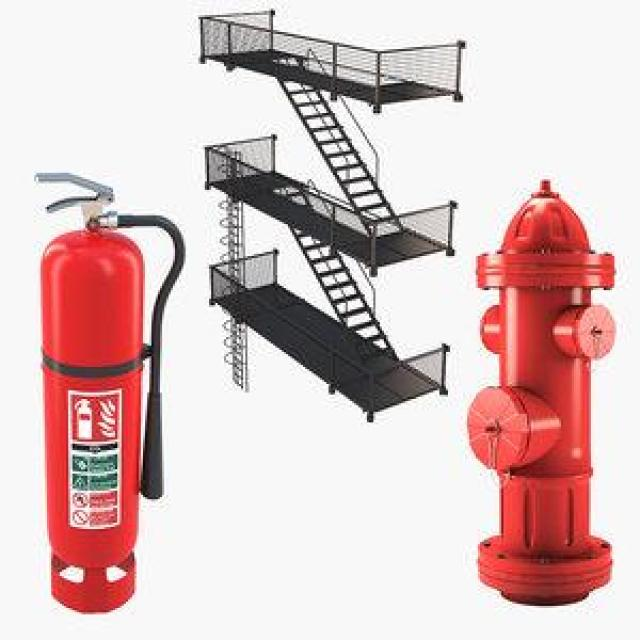Fire-Extinguisher: (29, 168, 184, 612), (472, 178, 615, 608)
